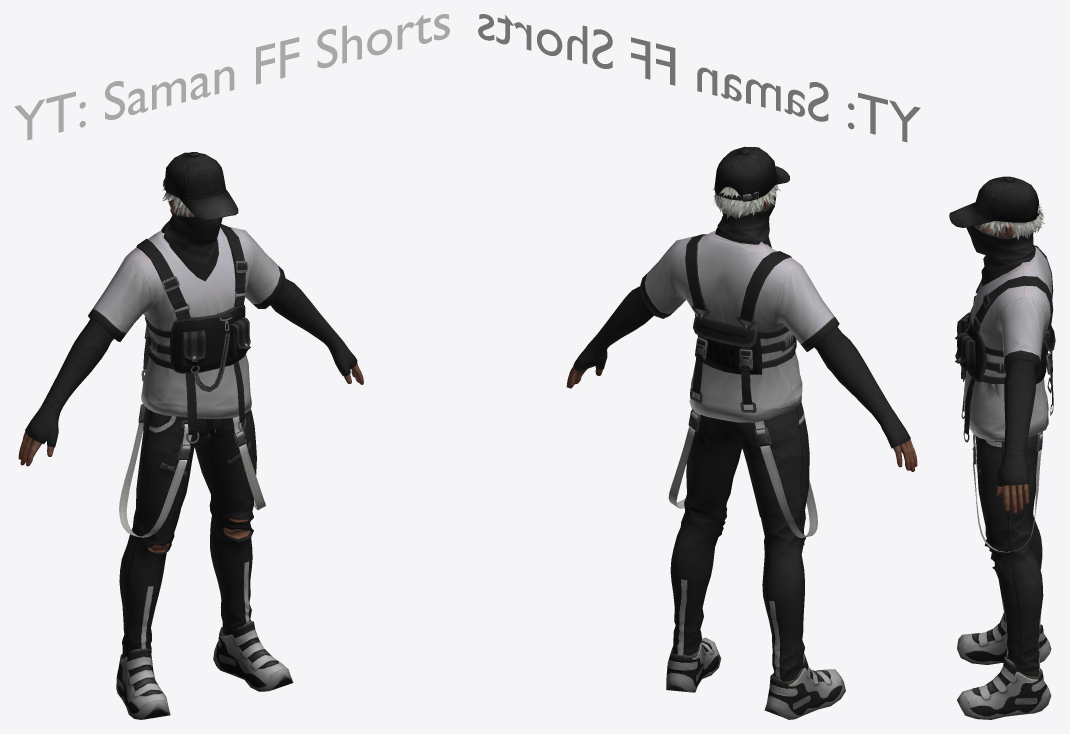
The model's file is sportsuit.fbx.
3 views of the same model, side by side, from view 1: azimuth 30°, elevation 25°; view 2: azimuth 150°, elevation 25°; view 3: azimuth 270°, elevation 25° (orthographic). The views are drawn at different scales.
Visible parts, largest first — view 1: Male_Lobby_Top_Cos_Sportsuit, Male_Lobby_Bottom_Cos_Sportsuit, Male_Lobby_Shoe_Cos_Sportsuit, Text.003, Male_Lobby_Hair_Cos_Sportsuit, Male_Lobby_Accessory_Cos_Sportsuit; view 2: Male_Lobby_Top_Cos_Sportsuit, Male_Lobby_Bottom_Cos_Sportsuit, Text.003, Male_Lobby_Shoe_Cos_Sportsuit, Male_Lobby_Hair_Cos_Sportsuit, Male_Lobby_Accessory_Cos_Sportsuit; view 3: Male_Lobby_Top_Cos_Sportsuit, Male_Lobby_Bottom_Cos_Sportsuit, Male_Lobby_Shoe_Cos_Sportsuit, Male_Lobby_Hair_Cos_Sportsuit, Male_Lobby_Accessory_Cos_Sportsuit, male_lobby_head_SC_Samurai.
Part boxes in pixels (x1=…): Male_Lobby_Top_Cos_Sportsuit: x1=18, y1=224, x2=363, y2=466; Male_Lobby_Bottom_Cos_Sportsuit: x1=119, y1=403, x2=265, y2=657; Male_Lobby_Shoe_Cos_Sportsuit: x1=116, y1=621, x2=293, y2=719; Text.003: x1=14, y1=14, x2=449, y2=140; Male_Lobby_Hair_Cos_Sportsuit: x1=162, y1=152, x2=238, y2=220; Male_Lobby_Accessory_Cos_Sportsuit: x1=161, y1=208, x2=222, y2=281; Male_Lobby_Top_Cos_Sportsuit: x1=566, y1=230, x2=917, y2=471; Male_Lobby_Bottom_Cos_Sportsuit: x1=668, y1=402, x2=817, y2=681; Text.003: x1=478, y1=14, x2=920, y2=142; Male_Lobby_Shoe_Cos_Sportsuit: x1=666, y1=630, x2=845, y2=719; Male_Lobby_Hair_Cos_Sportsuit: x1=712, y1=146, x2=789, y2=219; Male_Lobby_Accessory_Cos_Sportsuit: x1=715, y1=196, x2=775, y2=247; Male_Lobby_Top_Cos_Sportsuit: x1=955, y1=245, x2=1055, y2=514; Male_Lobby_Bottom_Cos_Sportsuit: x1=972, y1=431, x2=1043, y2=676; Male_Lobby_Shoe_Cos_Sportsuit: x1=957, y1=612, x2=1051, y2=719; Male_Lobby_Hair_Cos_Sportsuit: x1=949, y1=176, x2=1044, y2=240; Male_Lobby_Accessory_Cos_Sportsuit: x1=966, y1=225, x2=1035, y2=286; male_lobby_head_SC_Samurai: x1=978, y1=223, x2=1020, y2=238.
Bounding box in the file's own units: 837 × 1145 × 187.
9 materials, 8 textured.
